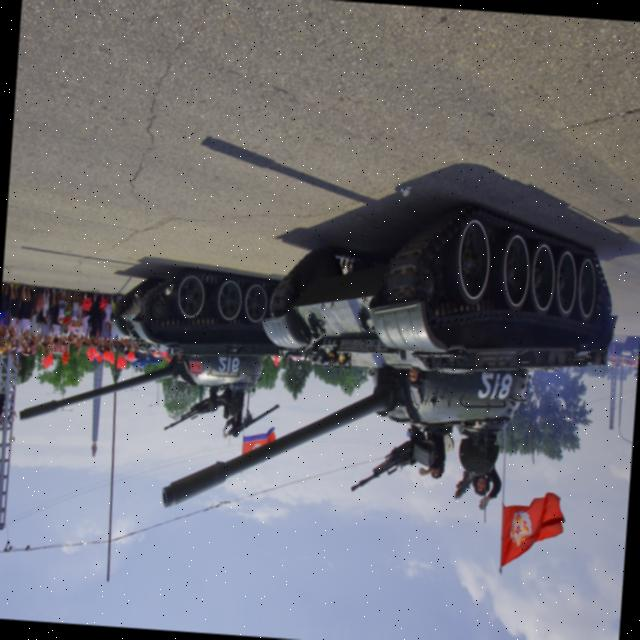north tank: (145, 164, 639, 560), (15, 244, 312, 458)
